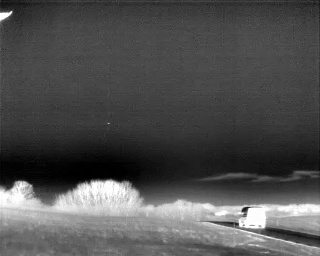BIRD: (0, 5, 16, 31)
